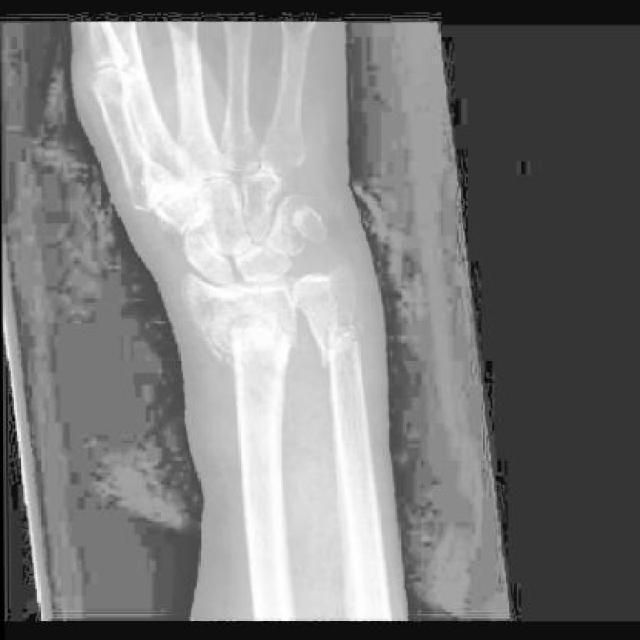Fracture: (202, 311, 299, 364), (315, 315, 365, 371)
